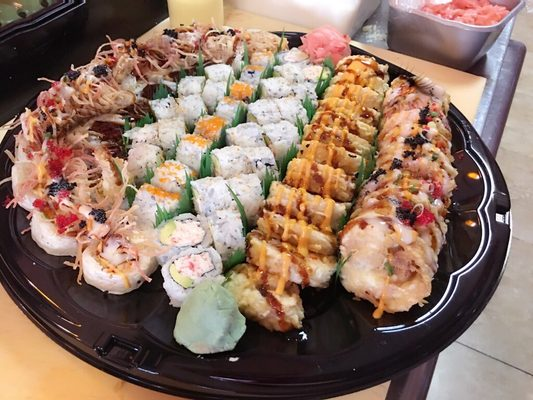sushi: (385, 0, 527, 71)
